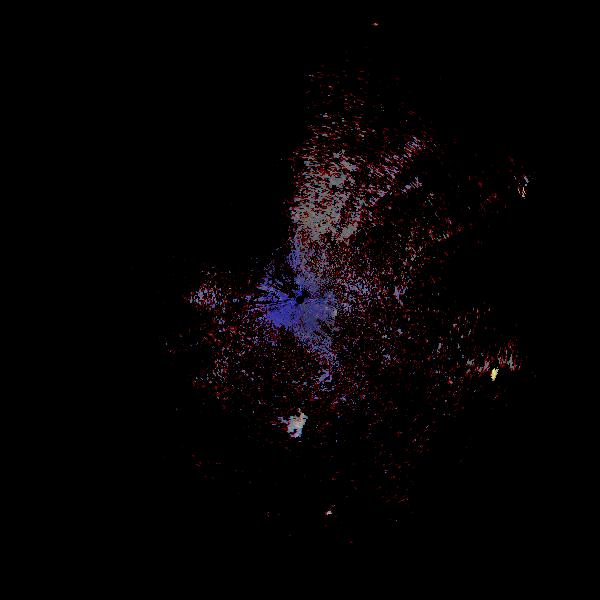roost: (278, 410, 305, 437)
